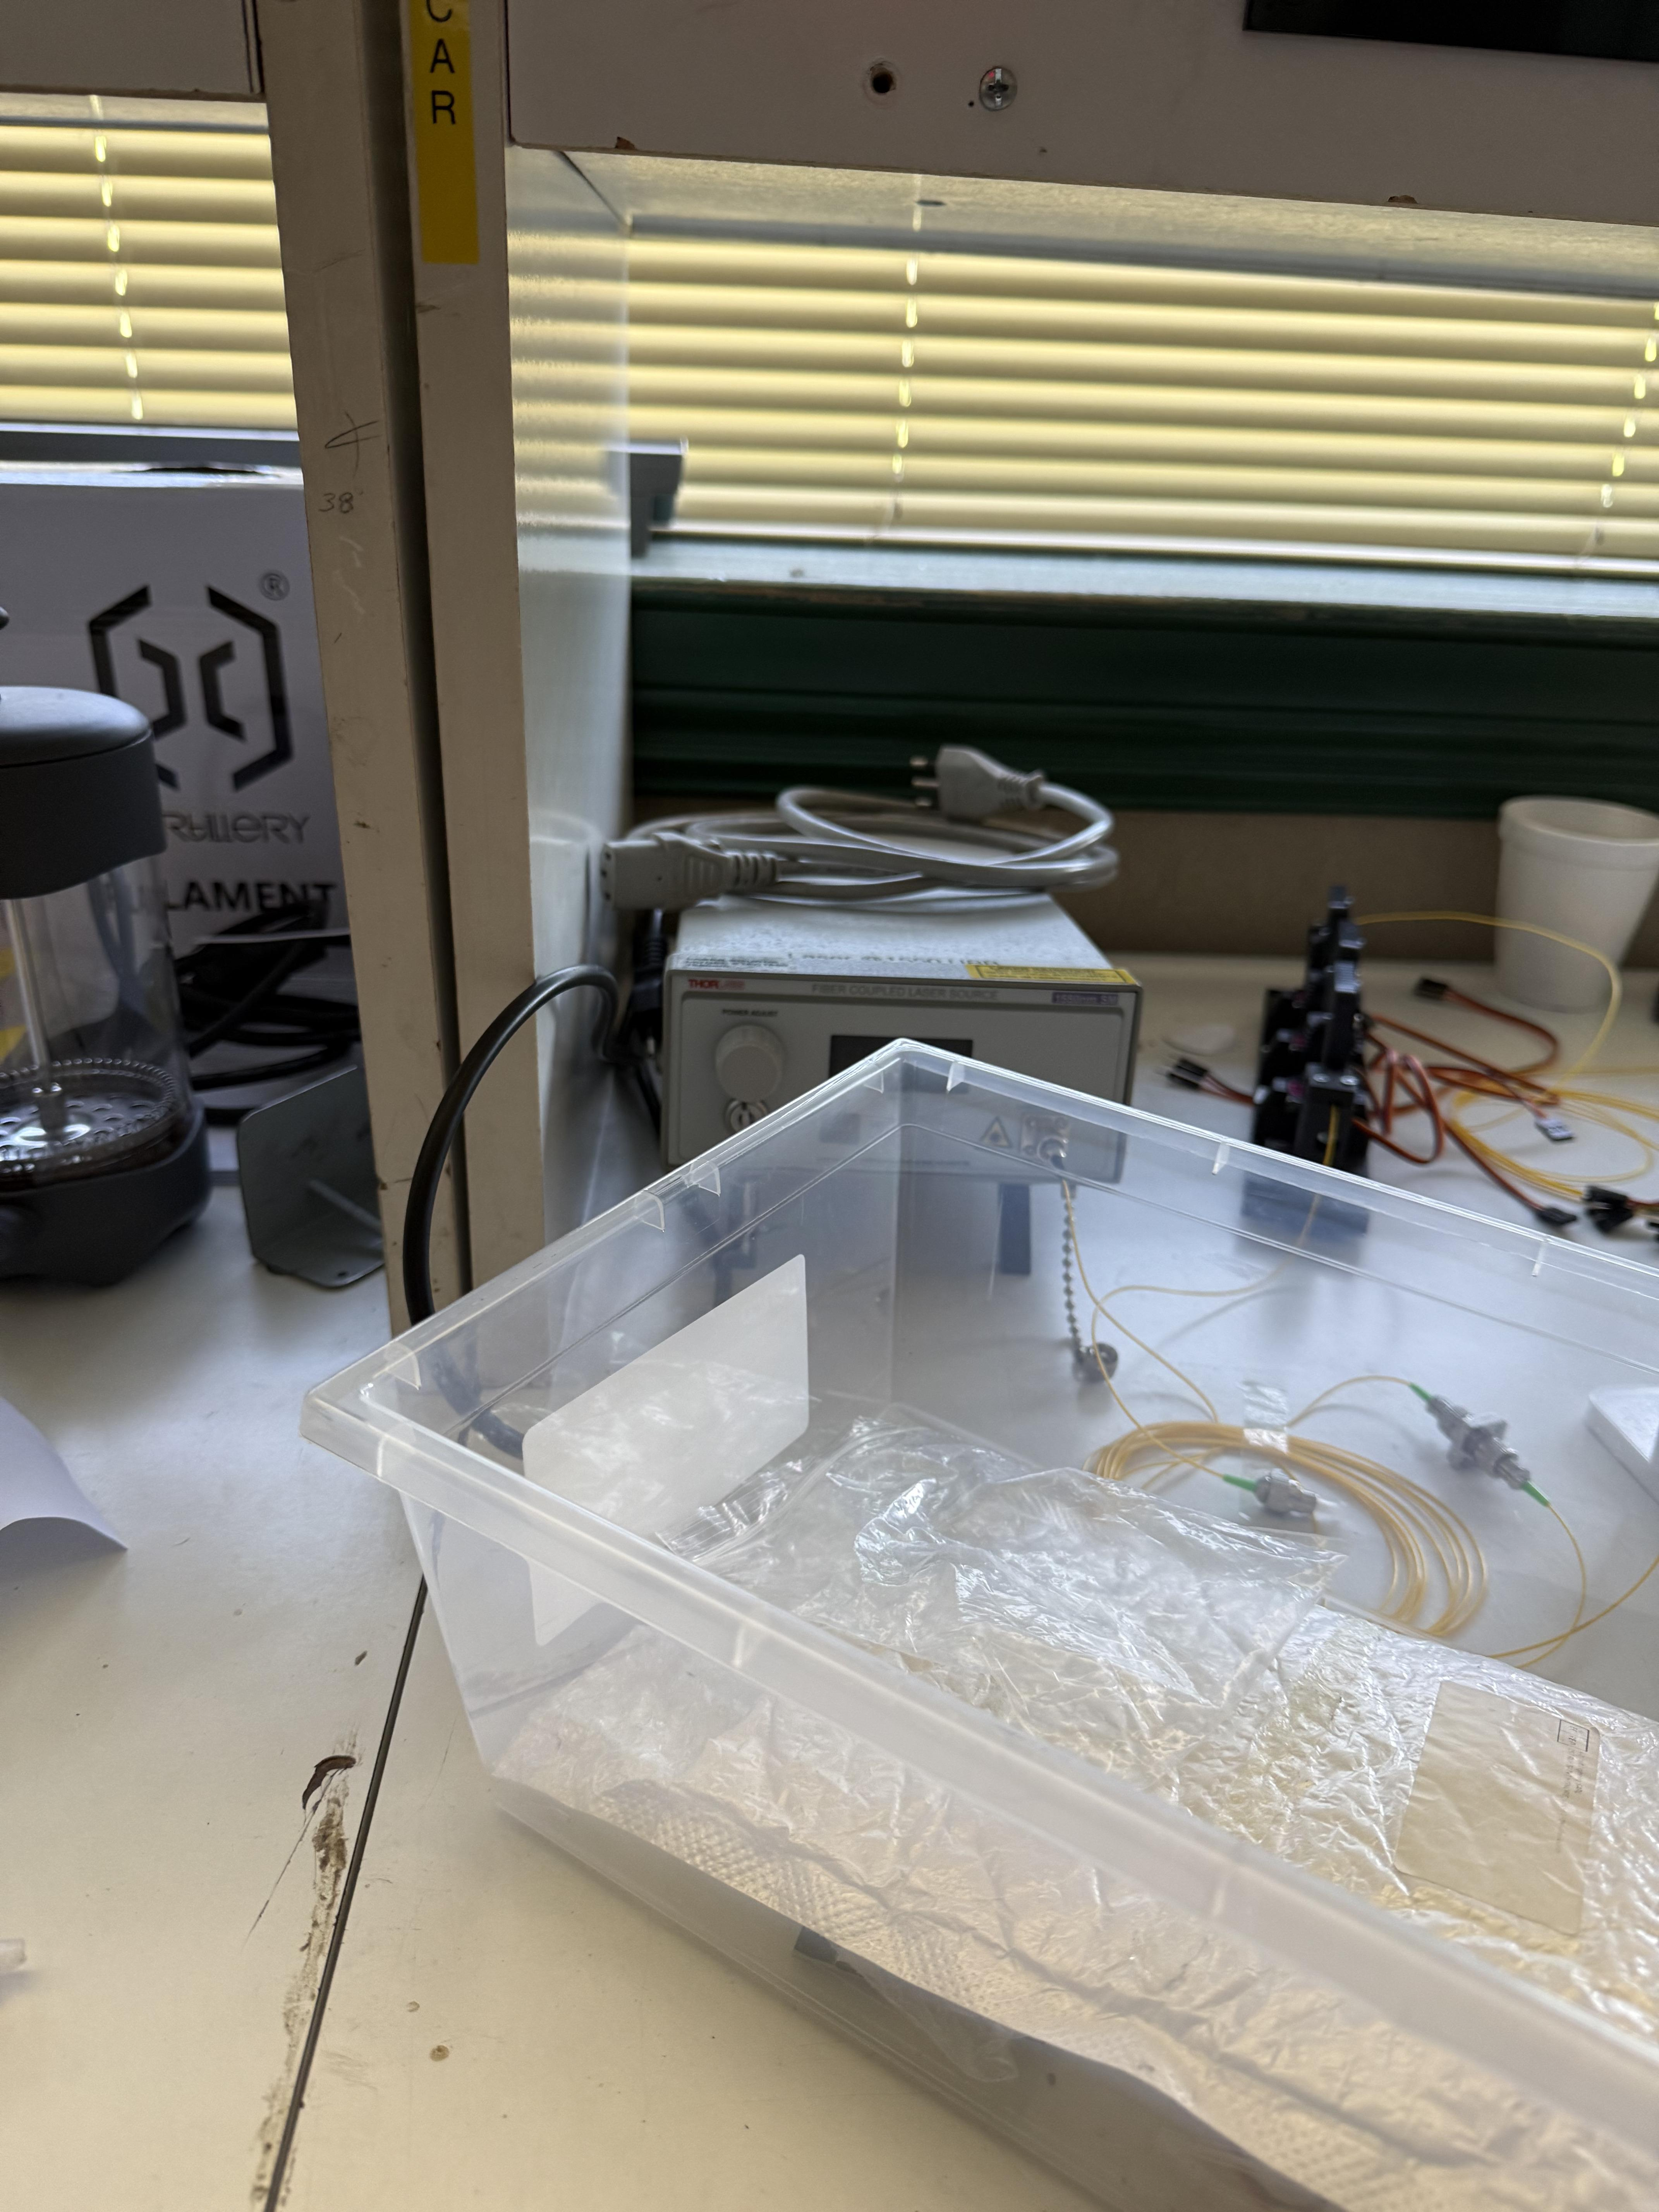laser: (643, 725, 1227, 1320)
paddle_polarization_controller: (1232, 902, 1413, 1310)
